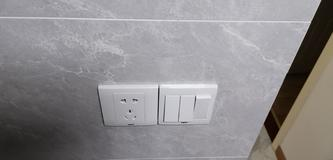switch: (193, 93, 214, 122), (162, 92, 180, 124), (178, 93, 196, 124)
